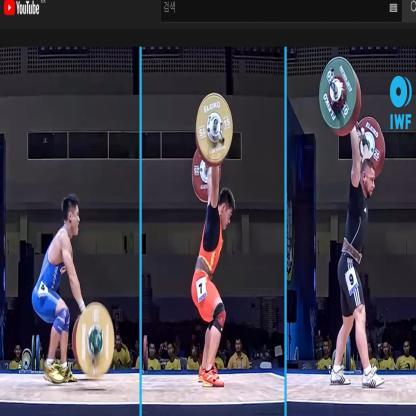Barbell: (212, 116, 220, 132), (93, 335, 101, 351), (330, 80, 338, 95)
